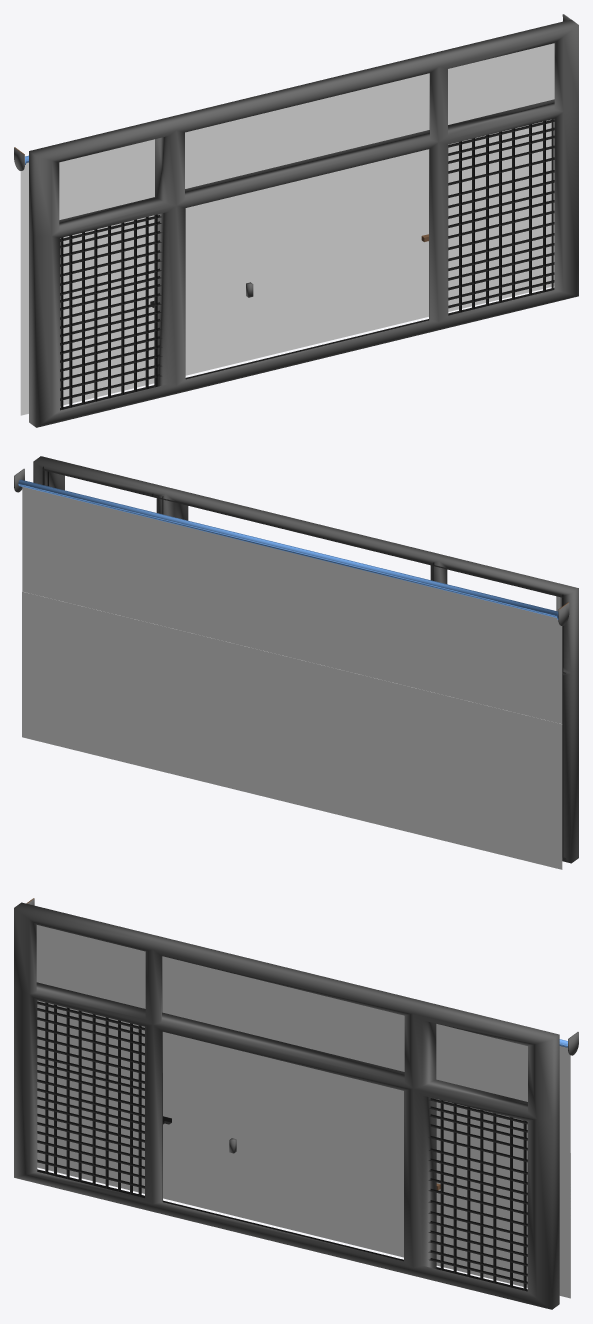
File: VentanaFIx.fbx
The picture shows the model from 3 angles, top to bottom: view 1: azimuth 30°, elevation 25°; view 2: azimuth 150°, elevation 25°; view 3: azimuth 330°, elevation 25°; orthographic projection.
Visible parts, largest first — view 1: Ventana afuera.003; view 2: Ventana afuera.003; view 3: Ventana afuera.003.
Part boxes in pixels (x1=…): Ventana afuera.003: x1=14, y1=14, x2=578, y2=427; Ventana afuera.003: x1=14, y1=456, x2=578, y2=869; Ventana afuera.003: x1=14, y1=898, x2=578, y2=1309.
Bounding box in the file's own units: 280 × 132 × 19.37.
Materials: 1 (1 with a texture image).
